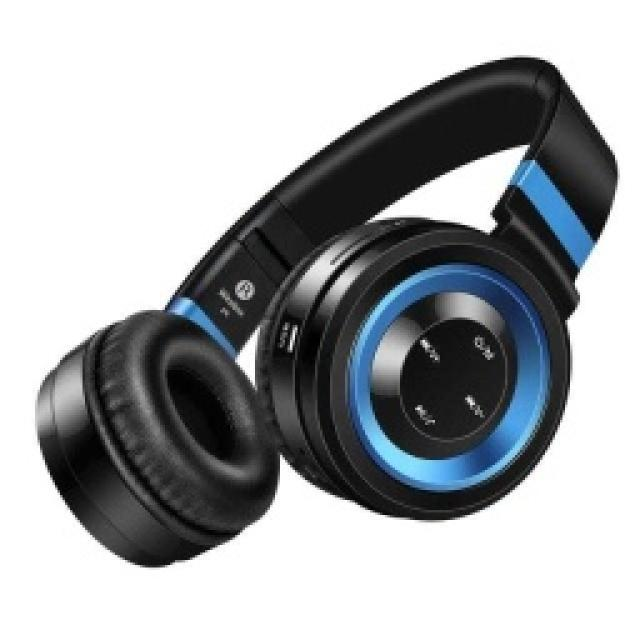headphones: (32, 52, 620, 568)
